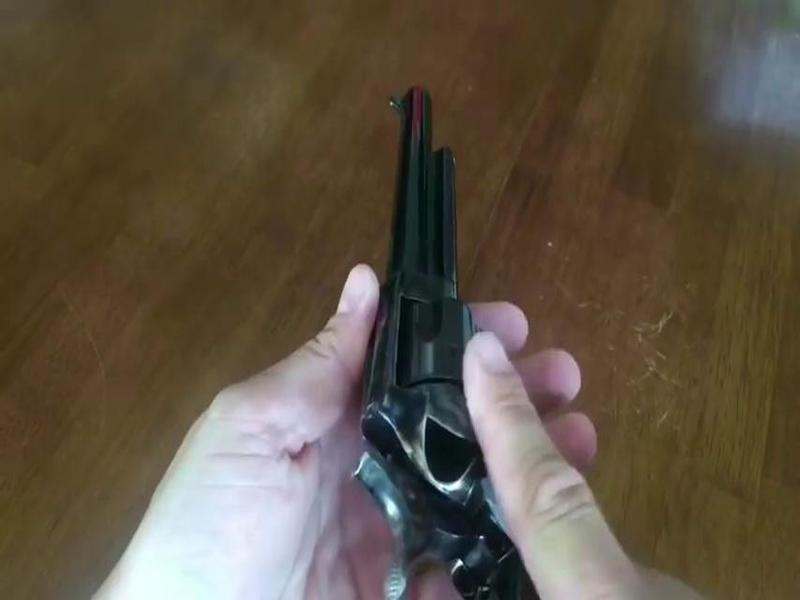Revolver: (312, 54, 547, 600)
